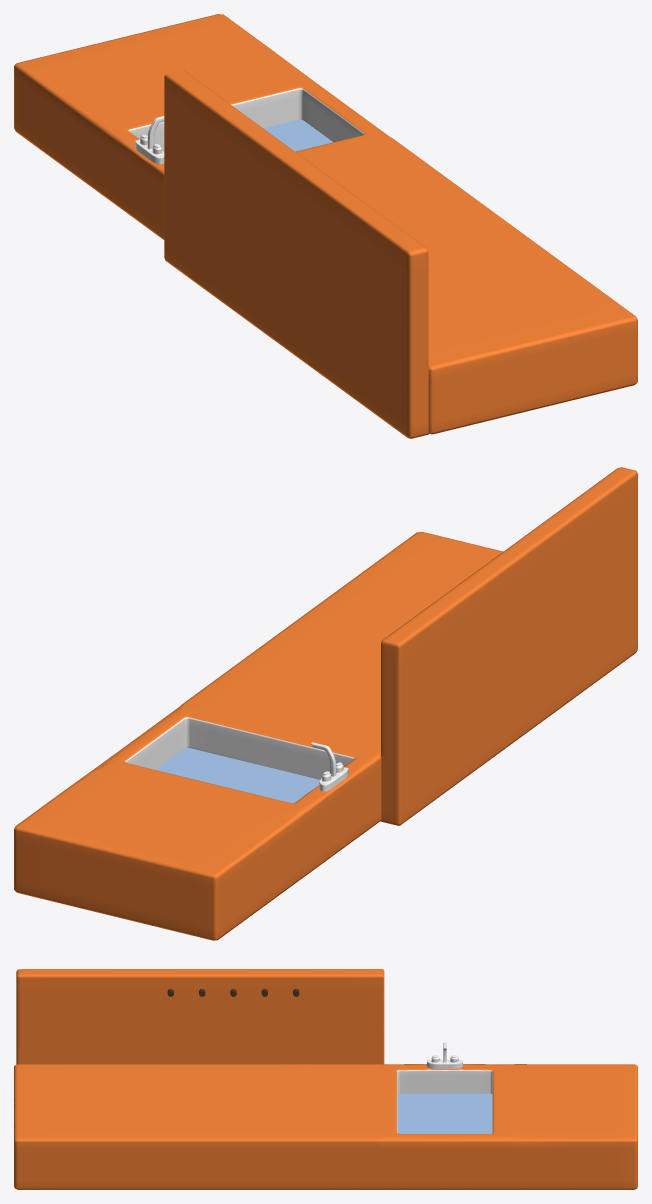
Rendered from SinkTable.fbx.
3 views of the same model, one above another, from view 1: azimuth 30°, elevation 25°; view 2: azimuth 150°, elevation 25°; view 3: azimuth 270°, elevation 25° (orthographic). The views are drawn at different scales.
Parts seen in each view (by area): view 1: pCylinder10, pPlane1; view 2: pCylinder10, pPlane1; view 3: pCylinder10, pPlane1.
Boxes of the visible parts, box(x1,y1,x2,y2) form: pCylinder10: box(14, 14, 637, 438); pPlane1: box(263, 119, 332, 151); pCylinder10: box(14, 467, 637, 940); pPlane1: box(156, 748, 319, 803); pCylinder10: box(14, 969, 637, 1189); pPlane1: box(397, 1093, 492, 1133).
Size of the model in its own units: 62.89 by 49.19 by 199.
1 material, 1 textured.
